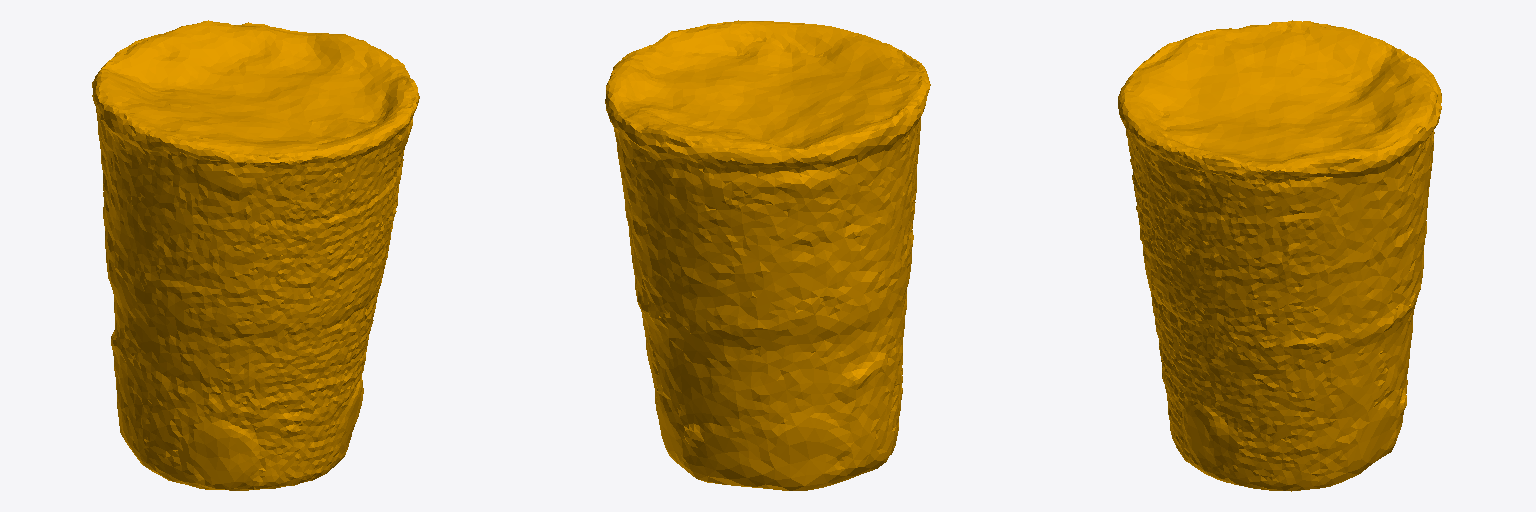
The robot description file, URDF, robot "water_cup":
<?xml version='1.0' encoding='utf-8'?>
<robot name="water_cup">
  <link name="water_cup">
    <visual>
      <origin xyz="0 0 0" rpy="0 0 0" />
      <geometry>
        <mesh filename="water_cup.obj" scale="1 1 1" />
      </geometry>
    </visual>
    <collision>
      <origin xyz="0 0 0" rpy="0 0 0" />
      <geometry>
        <mesh filename="water_cup_collision/decomp_0.obj" scale="1 1 1" />
      </geometry>
    </collision>
    <collision>
      <origin xyz="0 0 0" rpy="0 0 0" />
      <geometry>
        <mesh filename="water_cup_collision/decomp_1.obj" scale="1 1 1" />
      </geometry>
    </collision>
    <collision>
      <origin xyz="0 0 0" rpy="0 0 0" />
      <geometry>
        <mesh filename="water_cup_collision/decomp_2.obj" scale="1 1 1" />
      </geometry>
    </collision>
    <collision>
      <origin xyz="0 0 0" rpy="0 0 0" />
      <geometry>
        <mesh filename="water_cup_collision/decomp_3.obj" scale="1 1 1" />
      </geometry>
    </collision>
    <collision>
      <origin xyz="0 0 0" rpy="0 0 0" />
      <geometry>
        <mesh filename="water_cup_collision/decomp_4.obj" scale="1 1 1" />
      </geometry>
    </collision>
    <collision>
      <origin xyz="0 0 0" rpy="0 0 0" />
      <geometry>
        <mesh filename="water_cup_collision/decomp_5.obj" scale="1 1 1" />
      </geometry>
    </collision>
    <collision>
      <origin xyz="0 0 0" rpy="0 0 0" />
      <geometry>
        <mesh filename="water_cup_collision/decomp_6.obj" scale="1 1 1" />
      </geometry>
    </collision>
    <collision>
      <origin xyz="0 0 0" rpy="0 0 0" />
      <geometry>
        <mesh filename="water_cup_collision/decomp_7.obj" scale="1 1 1" />
      </geometry>
    </collision>
    <collision>
      <origin xyz="0 0 0" rpy="0 0 0" />
      <geometry>
        <mesh filename="water_cup_collision/decomp_8.obj" scale="1 1 1" />
      </geometry>
    </collision>
    <collision>
      <origin xyz="0 0 0" rpy="0 0 0" />
      <geometry>
        <mesh filename="water_cup_collision/decomp_9.obj" scale="1 1 1" />
      </geometry>
    </collision>
    <collision>
      <origin xyz="0 0 0" rpy="0 0 0" />
      <geometry>
        <mesh filename="water_cup_collision/decomp_10.obj" scale="1 1 1" />
      </geometry>
    </collision>
    <collision>
      <origin xyz="0 0 0" rpy="0 0 0" />
      <geometry>
        <mesh filename="water_cup_collision/decomp_11.obj" scale="1 1 1" />
      </geometry>
    </collision>
    <collision>
      <origin xyz="0 0 0" rpy="0 0 0" />
      <geometry>
        <mesh filename="water_cup_collision/decomp_12.obj" scale="1 1 1" />
      </geometry>
    </collision>
    <collision>
      <origin xyz="0 0 0" rpy="0 0 0" />
      <geometry>
        <mesh filename="water_cup_collision/decomp_13.obj" scale="1 1 1" />
      </geometry>
    </collision>
    <inertial>
      <origin xyz="-0.0023703 0.000846947 0.00420224" rpy="0 0 0" />
      <mass value="0.175415" />
      <inertia ixx="0.00019807" ixy="2.40888e-07" ixz="-4.81265e-06" iyy="0.000197829" iyz="1.3411e-06" izz="0.000115414" />
    </inertial>
  </link>
</robot>

--- What the picture shows (computed from the rendered views, not written in the file) ---
Views: 3 orthographic renders of the robot side by side, from view 1: azimuth 30°, elevation 25°; view 2: azimuth 150°, elevation 25°; view 3: azimuth 270°, elevation 25°.
Robot: water_cup — 1 links, 0 joints (none); root link water_cup; default pose: every joint at zero.
Links seen in each view (by area): view 1: water_cup; view 2: water_cup; view 3: water_cup.
Boxes of the visible links, x1,y1,x2,y2 form: water_cup: (92, 20, 419, 490); water_cup: (605, 20, 930, 490); water_cup: (1118, 20, 1441, 491).
Bounding box of the posed robot: 0.0828 × 0.0823 × 0.1037 m (x, y, z).
Meshes: 1 distinct files referenced, 1 mesh visuals loaded (1 OBJ).
